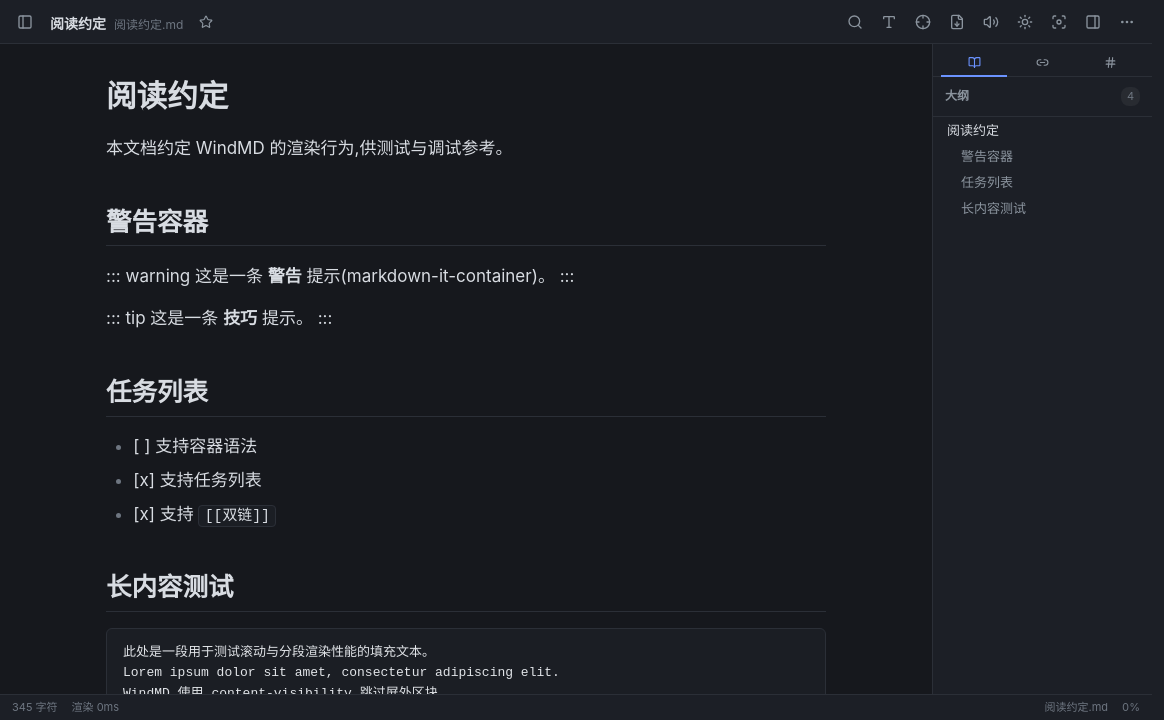
Test: App 快捷键 — 面板入口 › 工具栏全库搜索按钮:侧栏收起时点击可打开搜索面板
This screenshot has width=1164, height=720.
Expected: the header with class "toolbar" is shown, [0, 0, 1152, 44]
Click the button titled "全库搜索 (Ctrl+Shift+F)" at (855,22), box [840, 6, 870, 36]
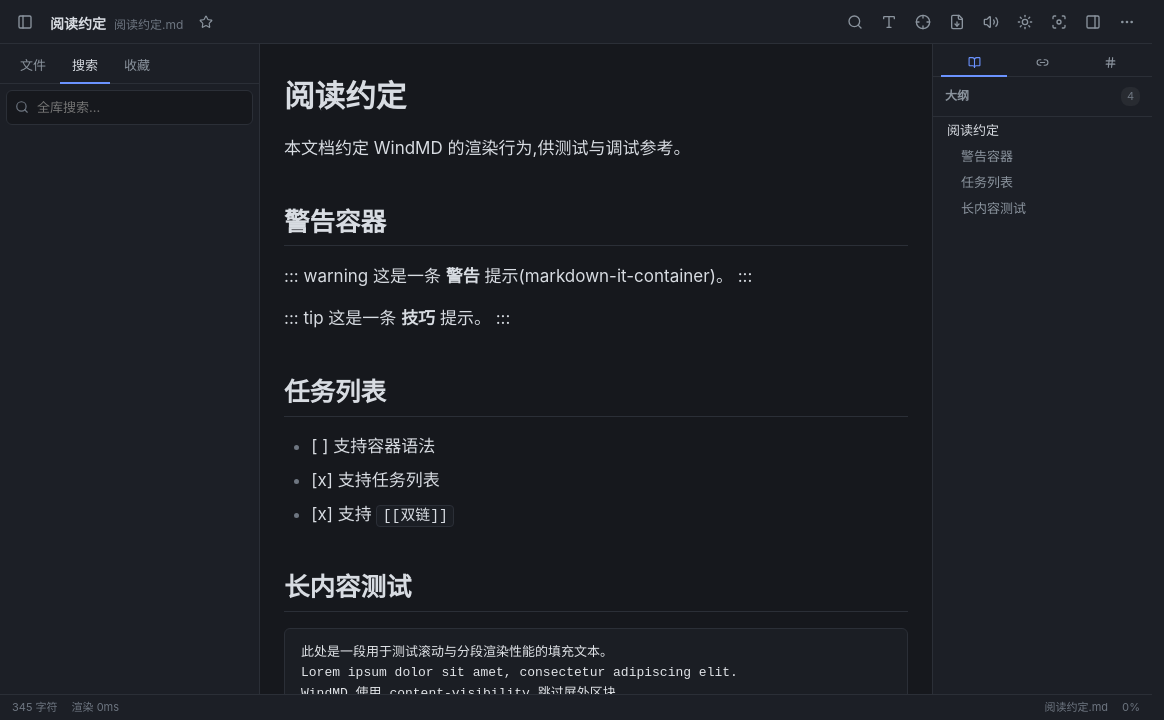
Now the field with placeholder "全库搜索…" is shown, box [35, 96, 244, 118]
